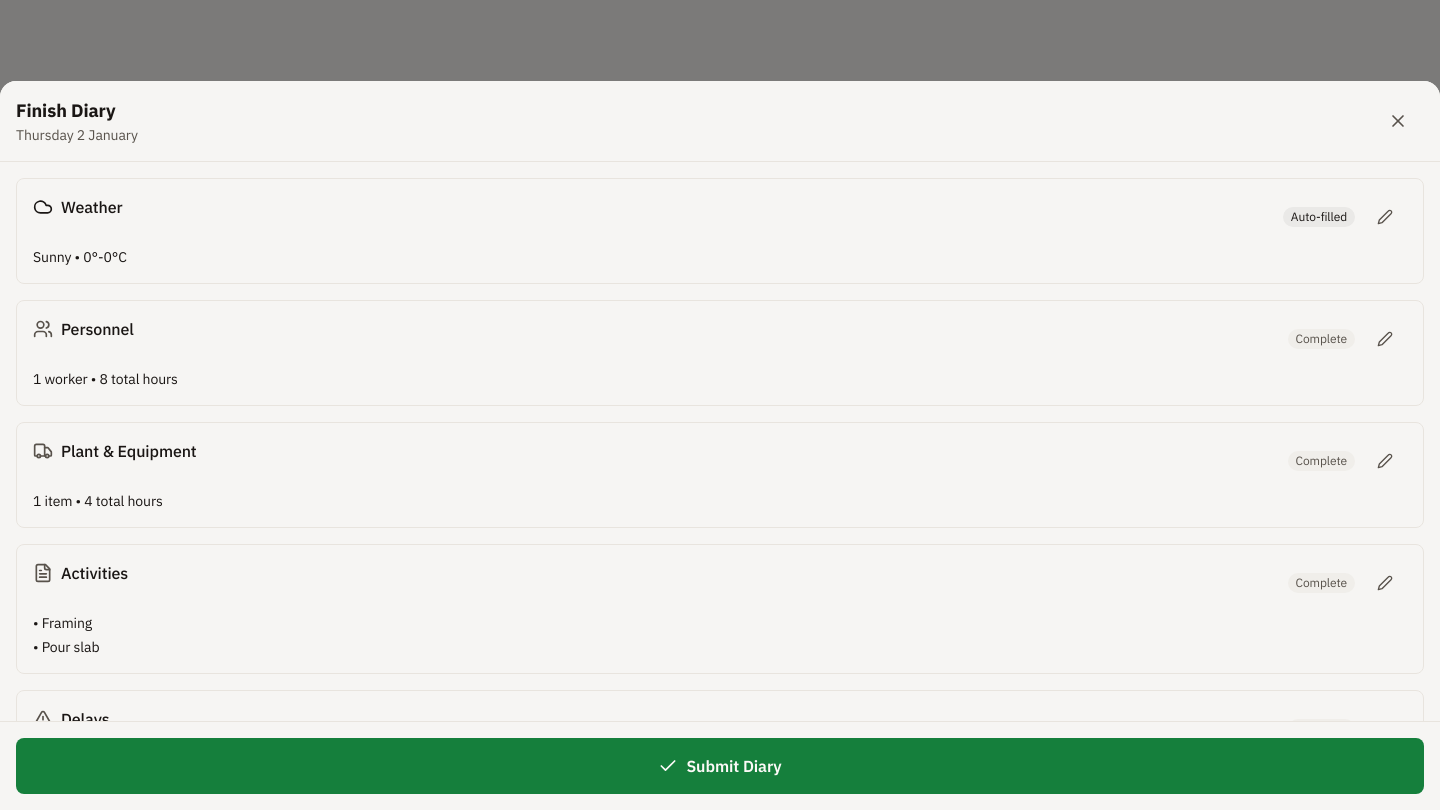
Test: DiaryFinishFlow — submit ceremony › reduced-motion: ceremony renders instantly (no animation delay)
Click the button "Submit Diary". click: (720, 766)
box: [16, 738, 1424, 794]
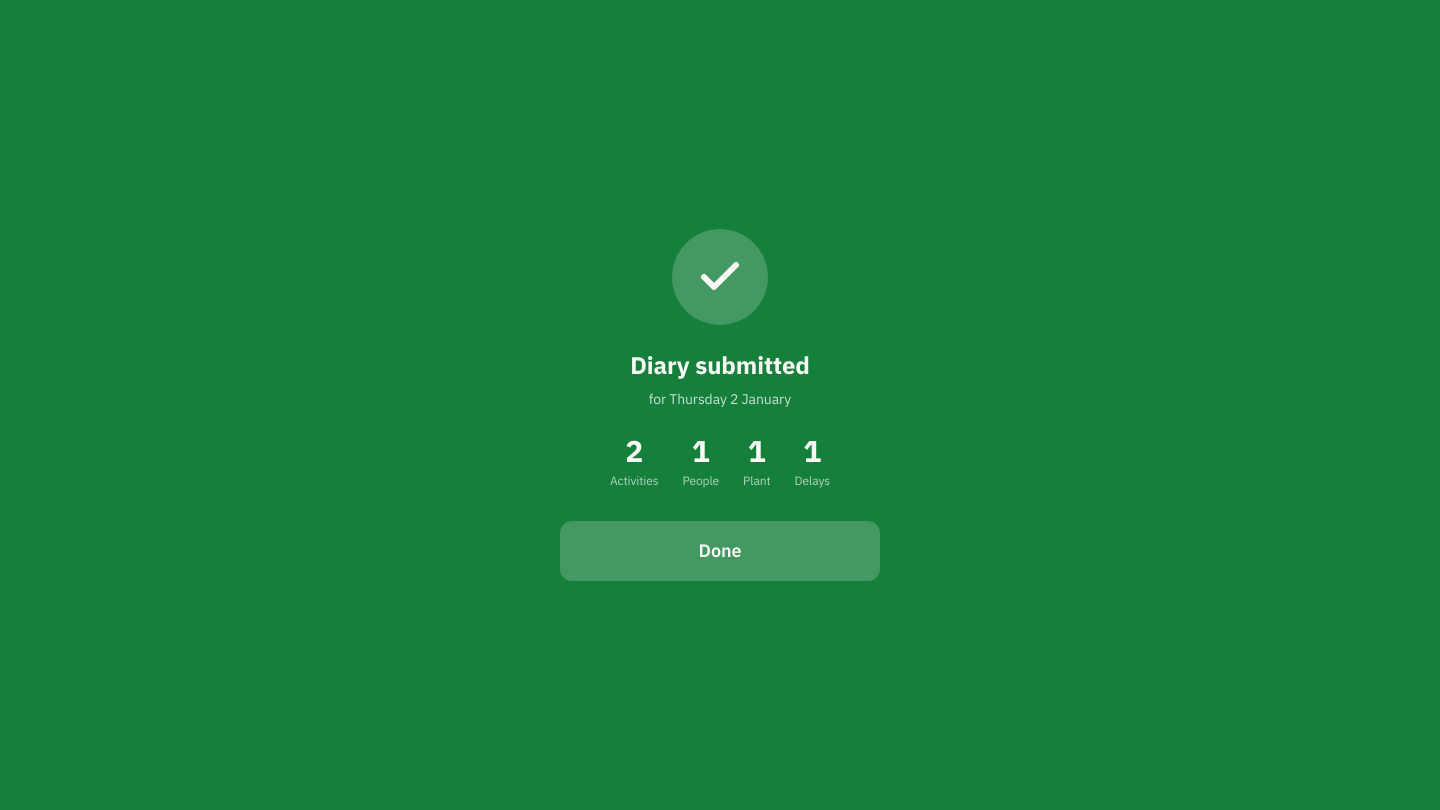
Expected: the element with test id "submit-ceremony" is shown
